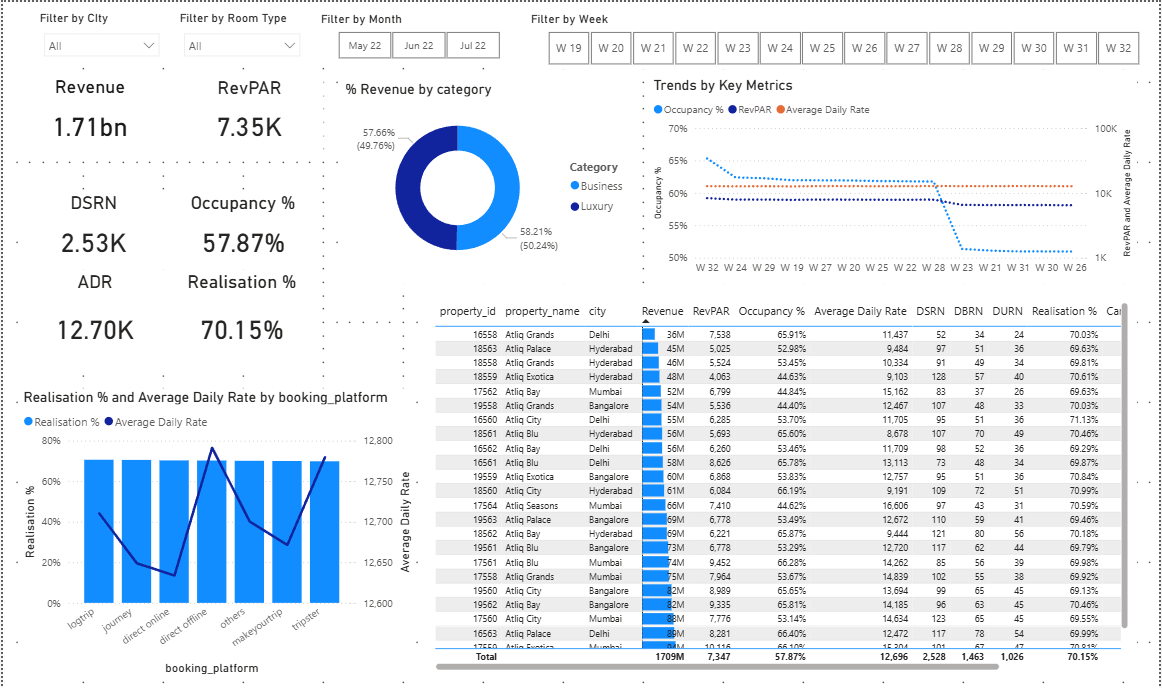

The dashboard page shown, as its layout file describes it:
{"tool":"powerbi","page":{"name":"Page 1","canvas":[1380,820],"ordinal":0},"visuals":[{"type":"tableEx","fields":{"Values":["dim_hotel.property_id","dim_hotel.property_name","dim_hotel.city","Key Measure.Revenue","Key Measure.RevPAR","Key Measure.Occupancy %","Key Measure.Average Daily Rate","Key Measure.DSRN","Key Measure.DBRN","Key Measure.DURN","Key Measure.Realisation %","Key Measure.Cancellation %"]},"box":[505.6,349.3,847.9,459.2],"z":0},{"type":"slicer","title":"Filter by CIty","fields":{"Values":["dim_hotel.city"]},"box":[39.5,9.9,158.1,64.9],"z":1000},{"type":"slicer","title":"Filter by Room Type","fields":{"Values":["dim_rooms.room_class"]},"box":[206,10,159,65],"z":2000},{"type":"slicer","title":"Filter by Month","fields":{"Values":["dim_date.mmm yy"]},"box":[374.6,11.3,242.3,62],"z":3000},{"type":"slicer","title":"Filter by Week","fields":{"Values":["dim_date.week no"]},"box":[625.4,11.3,754.9,69],"z":4000},{"type":"card","title":"Revenue","fields":{"Values":["Key Measure.Revenue"]},"box":[1.4,87.5,204.7,93.2],"z":5000},{"type":"donutChart","title":"% Revenue by category","fields":{"Category":["dim_hotel.category"],"Y":["Key Measure.Occupancy %"]},"box":[400,89,362,246],"z":7000},{"type":"card","title":"RevPAR","fields":{"Values":["Key Measure.RevPAR"]},"box":[206.1,88.9,176.5,91.8],"z":8000},{"type":"card","title":"DSRN","fields":{"Values":["Key Measure.DSRN"]},"box":[19.8,227.3,177.9,93.2],"z":9000},{"type":"card","title":"Occupancy %","fields":{"Values":["Key Measure.Occupancy %"]},"box":[199.1,227.3,176.5,93.2],"z":10000},{"type":"card","title":"ADR","fields":{"Values":["Key Measure.Average Daily Rate"]},"box":[21.2,320.5,177.9,111.5],"z":11000},{"type":"card","title":"Realisation %","fields":{"Values":["Key Measure.Realisation %"]},"box":[197.6,320.5,176.5,111.5],"z":12000},{"type":"lineClusteredColumnComboChart","fields":{"Category":["fact_bookings.booking_platform"],"Y":["Key Measure.Realisation %"],"Y2":["Key Measure.Average Daily Rate"]},"box":[20,461,473,347],"z":13000},{"type":"lineChart","title":"Trends by Key Metrics","fields":{"Category":["dim_date.week no"],"Y":["Key Measure.Occupancy %"],"Y2":["Key Measure.RevPAR","Key Measure.Average Daily Rate"]},"box":[772,89,582,246],"z":14000}]}

Visuals, with their boxes in screenshot pixels (x1, y1, x2, y2), scaled from the page's 1380x820 canvas onto the 1162x688 screenshot:
tableEx - dim_hotel.property_id x dim_hotel.property_name: Rect(426, 293, 1140, 678)
"Filter by CIty" slicer: Rect(33, 8, 166, 63)
"Filter by Room Type" slicer: Rect(173, 8, 307, 63)
"Filter by Month" slicer: Rect(315, 9, 519, 62)
"Filter by Week" slicer: Rect(527, 9, 1161, 67)
"Revenue" card: Rect(1, 73, 174, 152)
"% Revenue by category" donutChart: Rect(337, 75, 642, 281)
"RevPAR" card: Rect(174, 75, 322, 152)
"DSRN" card: Rect(17, 191, 166, 269)
"Occupancy %" card: Rect(168, 191, 316, 269)
"ADR" card: Rect(18, 269, 168, 362)
"Realisation %" card: Rect(166, 269, 315, 362)
lineClusteredColumnComboChart - fact_bookings.booking_platform x Key Measure.Realisation %: Rect(17, 387, 415, 678)
"Trends by Key Metrics" lineChart: Rect(650, 75, 1140, 281)
